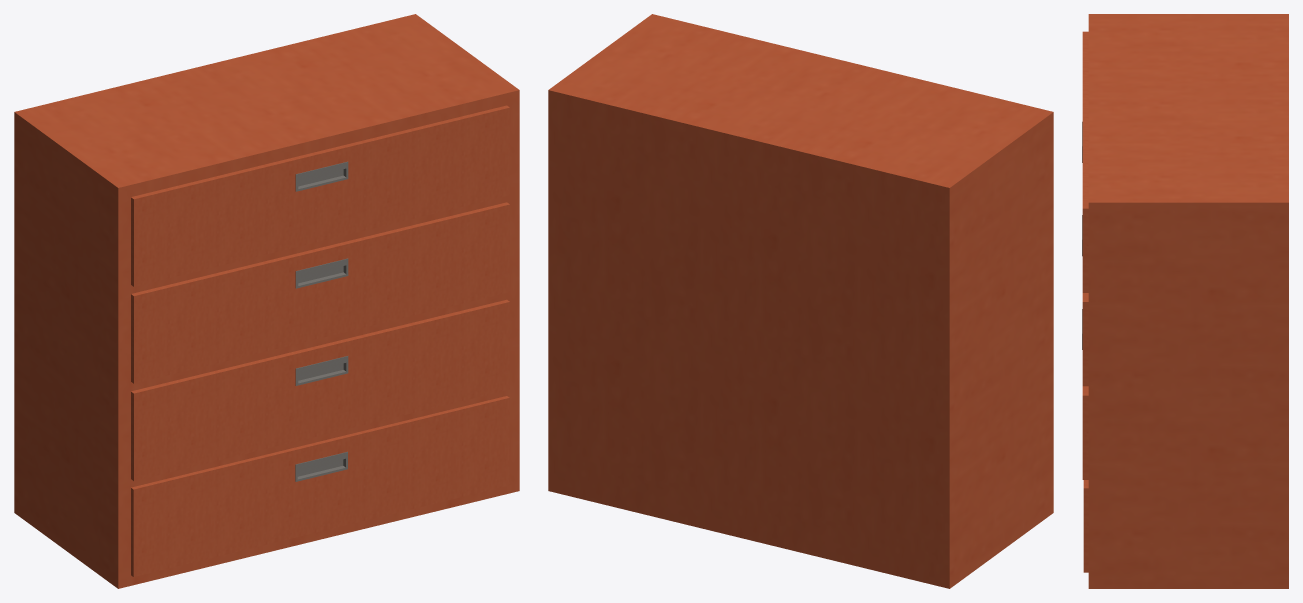
The model's file is Drawer18.fbx.
3 views of the same model, side by side, from view 1: azimuth 30°, elevation 25°; view 2: azimuth 150°, elevation 25°; view 3: azimuth 270°, elevation 25° (orthographic). The views are drawn at different scales.
Parts seen in each view (by area): view 1: Drawer18_Body, Drawer18_1, Drawer18_3, Drawer18_2, Drawer18_4; view 2: Drawer18_Body; view 3: Drawer18_Body, Drawer18_1, Drawer18_2, Drawer18_3, Drawer18_4.
Part boxes in pixels (x1,y1,x2,y2): Drawer18_Body: (14, 14, 519, 588); Drawer18_1: (131, 105, 509, 286); Drawer18_3: (131, 299, 509, 480); Drawer18_2: (131, 202, 509, 383); Drawer18_4: (131, 396, 509, 576); Drawer18_Body: (548, 14, 1053, 588); Drawer18_Body: (1088, 14, 1288, 588); Drawer18_1: (1082, 31, 1088, 292); Drawer18_2: (1082, 215, 1088, 386); Drawer18_3: (1082, 309, 1088, 479); Drawer18_4: (1083, 480, 1088, 572).
Bounding box in the file's own units: 84.51 × 80.66 × 39.12.
